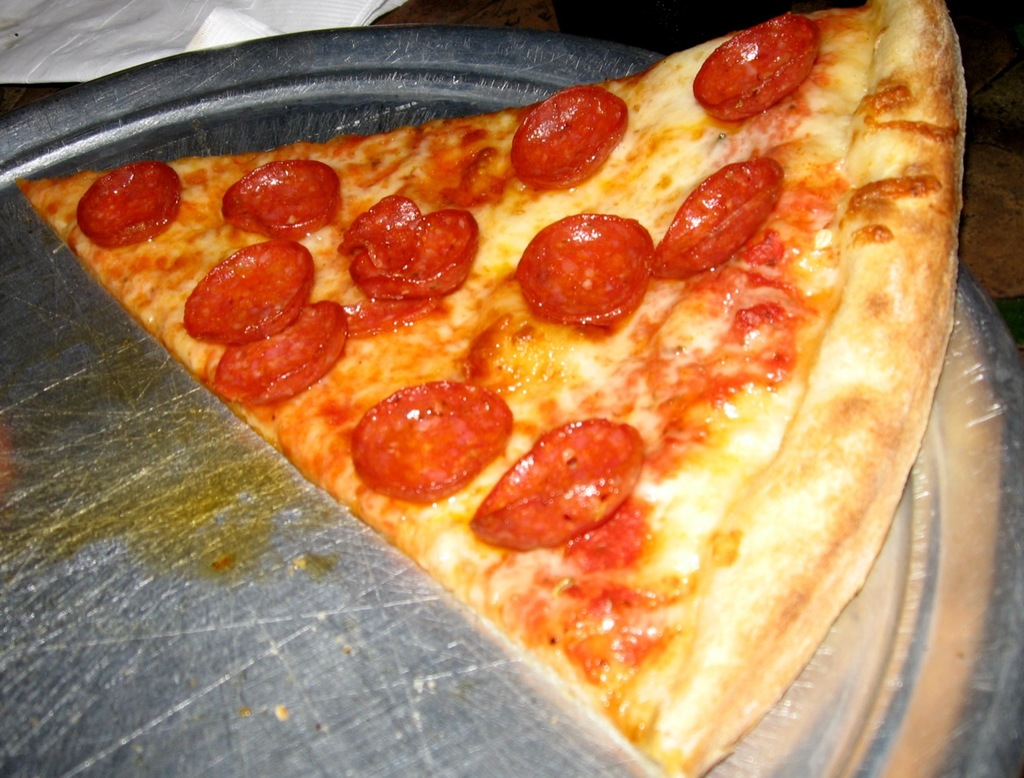Pizza: (35, 15, 986, 766)
